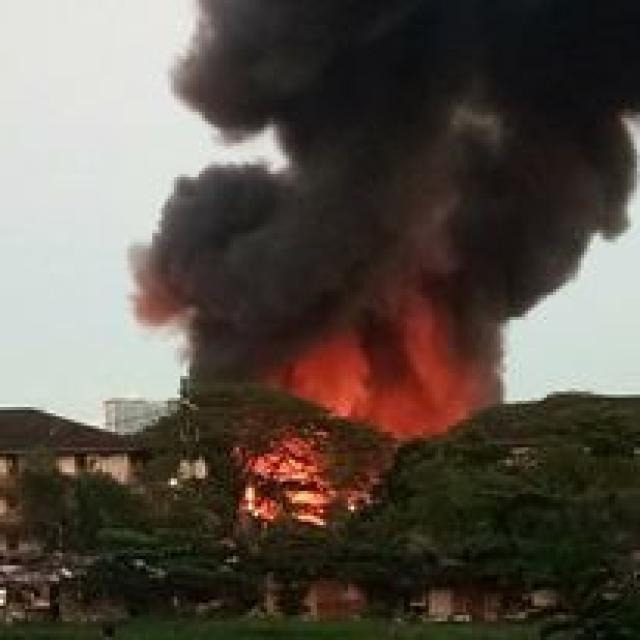Fire: (280, 314, 506, 435), (234, 435, 368, 523)
Smoke: (136, 0, 639, 438)
